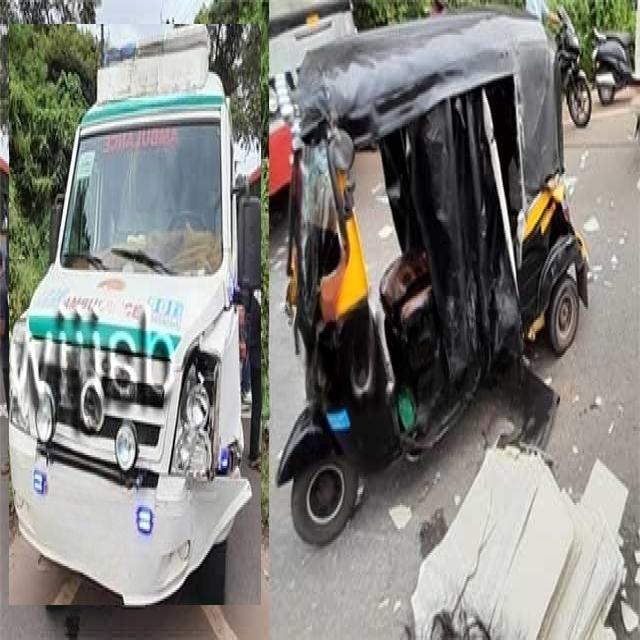accident: (276, 14, 588, 540)
emergency: (9, 25, 261, 605)
